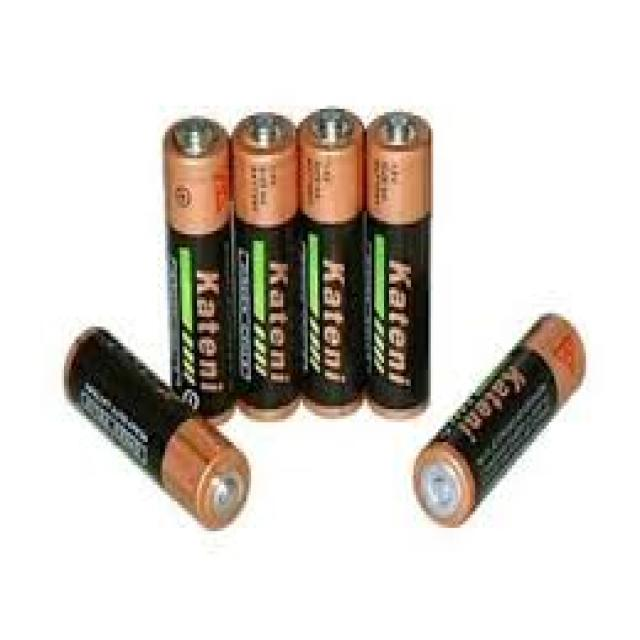non-organic waste: (62, 324, 252, 530), (412, 307, 588, 526), (161, 106, 234, 424), (297, 105, 370, 419), (232, 110, 304, 423), (367, 111, 434, 419)
